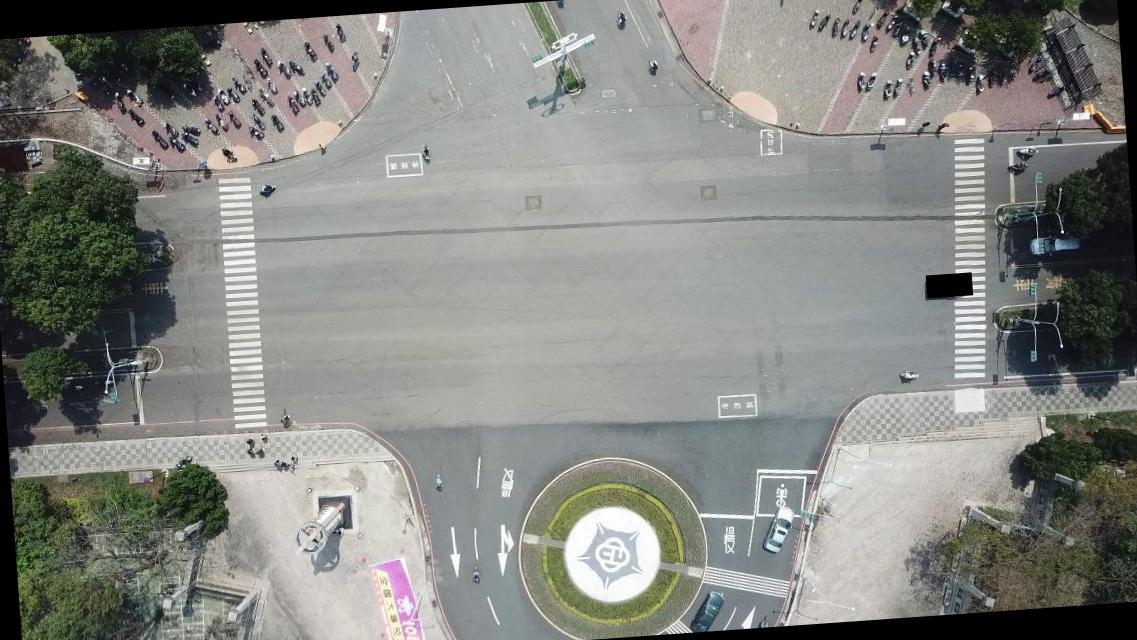vehicle: (758, 504, 797, 556), (684, 588, 726, 632), (1028, 231, 1080, 257)
